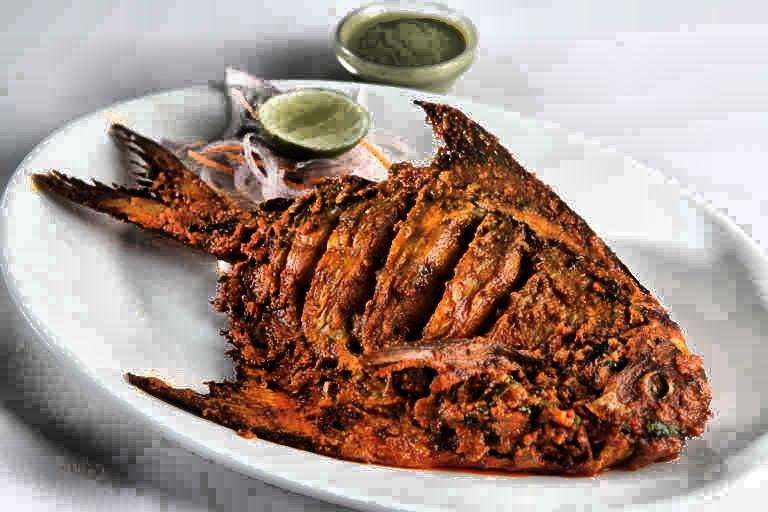fish: (63, 99, 723, 472)
